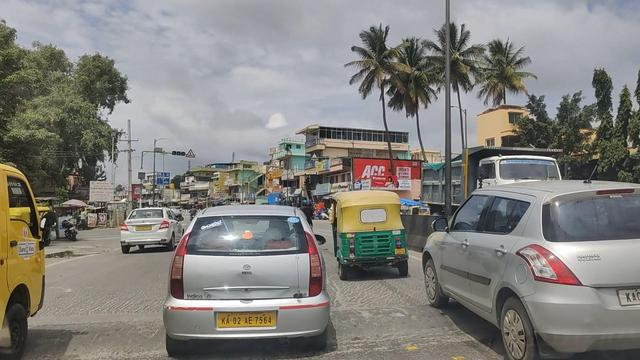LMV: (406, 187, 640, 347), (162, 202, 325, 354), (328, 190, 405, 277), (114, 200, 179, 256)
SpeedBump: (29, 311, 163, 349)
